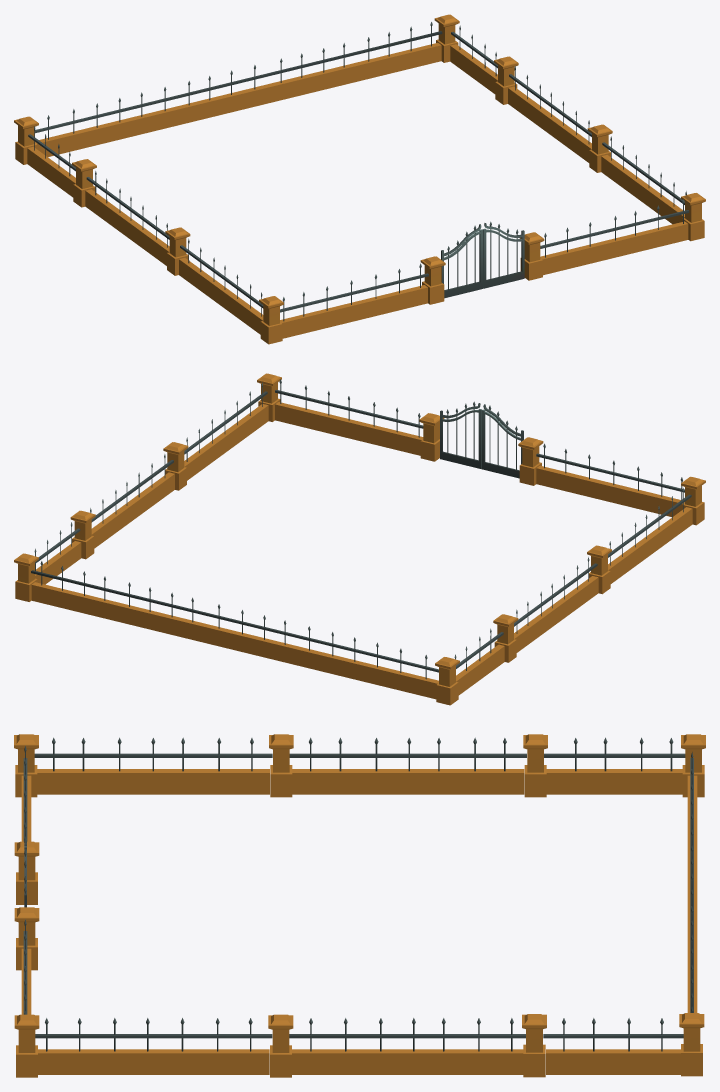
Rendered from Art_Museum_Fence.fbx.
3 views of the same model, one above another, from view 1: azimuth 30°, elevation 25°; view 2: azimuth 150°, elevation 25°; view 3: azimuth 270°, elevation 25° (orthographic). The views are drawn at different scales.
Visible parts, largest first — view 1: Grand_Gallery_Fence_Gate; view 2: Grand_Gallery_Fence_Gate; view 3: Grand_Gallery_Fence_Gate.
Boxes of the visible parts, x1,y1,x2,y2 form: Grand_Gallery_Fence_Gate: [14, 14, 705, 344]; Grand_Gallery_Fence_Gate: [14, 373, 705, 705]; Grand_Gallery_Fence_Gate: [14, 734, 705, 1077].
Size of the model in its own units: 7.84 by 1.12 by 7.88.
